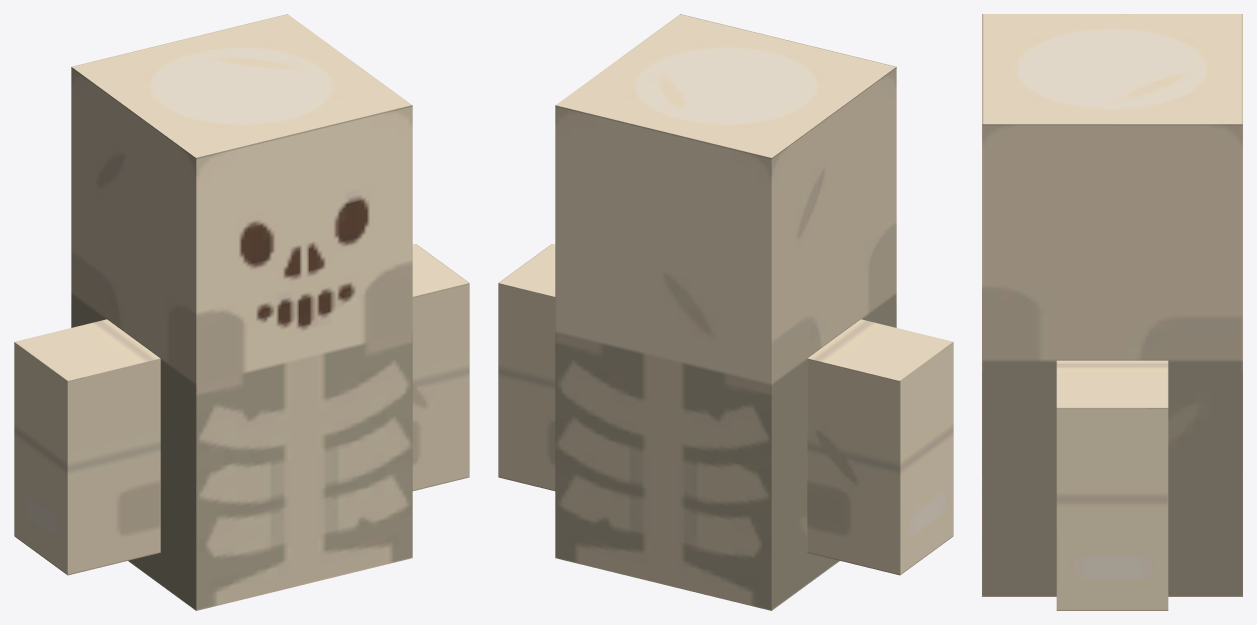
Rendered from character_skeleton.glb.
3 views of the same model, side by side, from view 1: azimuth 30°, elevation 25°; view 2: azimuth 150°, elevation 25°; view 3: azimuth 270°, elevation 25° (orthographic). The views are drawn at different scales.
Parts seen in each view (by area): view 1: head, character_skeleton %8angles(Clone), right, left; view 2: head, character_skeleton %8angles(Clone), right, left; view 3: head, character_skeleton %8angles(Clone), left.
Part boxes in pixels (x1,y1,x2,y2): head: (71, 14, 412, 384); character_skeleton %8angles(Clone): (71, 293, 412, 610); right: (14, 319, 160, 575); left: (412, 244, 469, 490); head: (555, 14, 896, 384); character_skeleton %8angles(Clone): (555, 293, 896, 610); right: (807, 319, 953, 575); left: (498, 244, 555, 490); head: (982, 14, 1242, 360); character_skeleton %8angles(Clone): (982, 360, 1242, 596); left: (1056, 360, 1168, 610).
Size of the model in its own units: 0.4832 by 0.52 by 0.26.
Materials: 1 (1 with a texture image).
